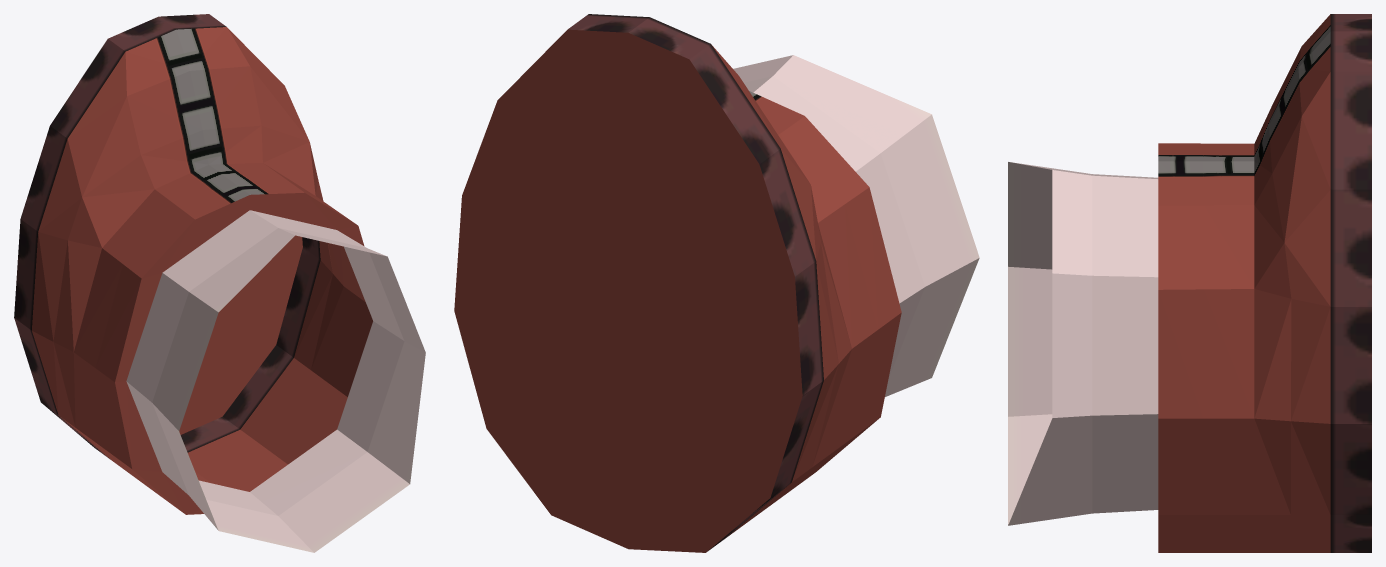
Rendered from PieDerBufford.obj.
3 views of the same model, side by side, from view 1: azimuth 30°, elevation 25°; view 2: azimuth 150°, elevation 25°; view 3: azimuth 270°, elevation 25° (orthographic). The views are drawn at different scales.
Parts seen in each view (by area): view 1: Mesh_0929.rip_noesis_meshnode_0000_Mesh_0929.rip.002_Material.01; view 2: Mesh_0929.rip_noesis_meshnode_0000_Mesh_0929.rip.002_Material.01; view 3: Mesh_0929.rip_noesis_meshnode_0000_Mesh_0929.rip.002_Material.01.
Part boxes in pixels (x1,y1,x2,y2): Mesh_0929.rip_noesis_meshnode_0000_Mesh_0929.rip.002_Material.01: (14, 14, 425, 552); Mesh_0929.rip_noesis_meshnode_0000_Mesh_0929.rip.002_Material.01: (454, 14, 979, 552); Mesh_0929.rip_noesis_meshnode_0000_Mesh_0929.rip.002_Material.01: (1008, 14, 1371, 552).
Size of the model in its own units: 0.5314 by 0.7528 by 0.4969.
